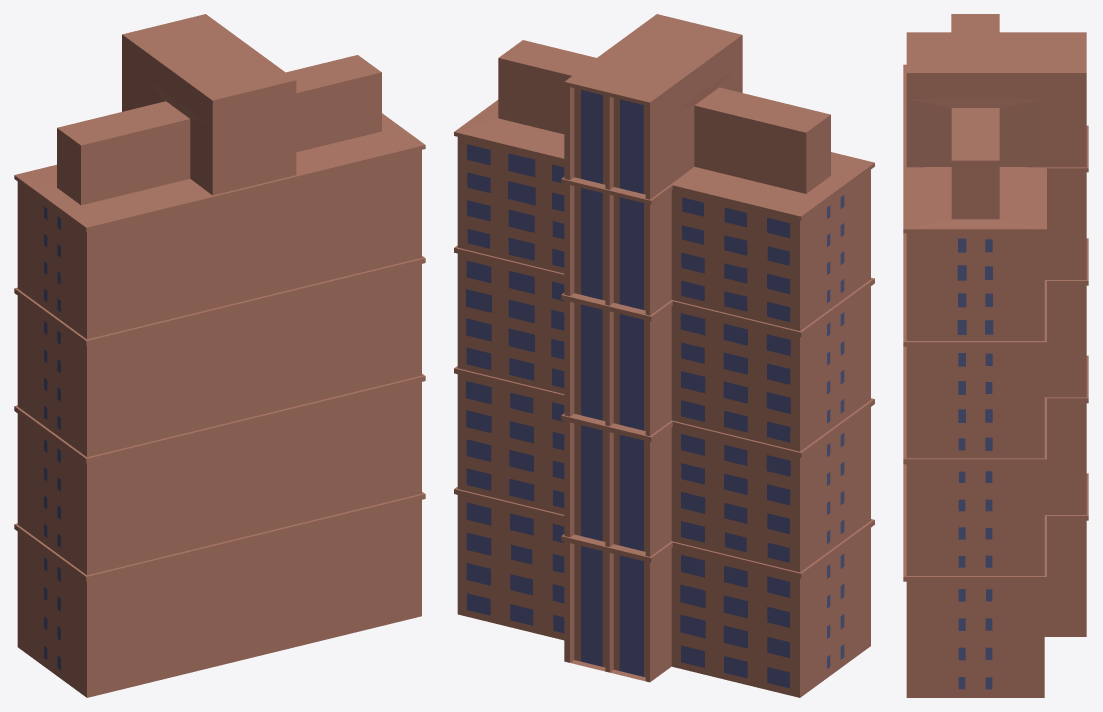
File: CityHouse001.fbx
The picture shows the model from 3 angles, left to right: view 1: azimuth 30°, elevation 25°; view 2: azimuth 150°, elevation 25°; view 3: azimuth 270°, elevation 25°; orthographic projection. The views are drawn at different scales.
Parts seen in each view (by area): view 1: Cube; view 2: Cube; view 3: Cube.
Boxes of the visible parts, x1,y1,x2,y2 form: Cube: (14,14,425,697); Cube: (454,14,874,697); Cube: (903,14,1088,697).
Size of the model in its own units: 565 by 901 by 268.
